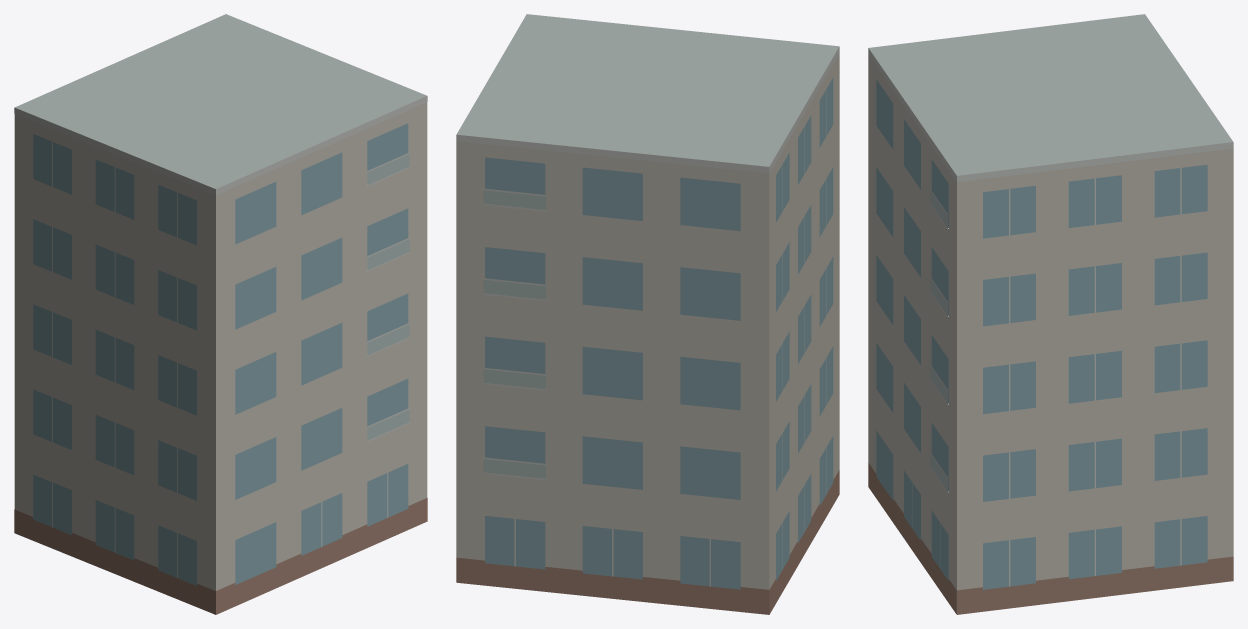
Rendered from survey-upis-32735681.glb.
The picture shows the model from 3 angles, left to right: view 1: azimuth 30°, elevation 25°; view 2: azimuth 150°, elevation 25°; view 3: azimuth 270°, elevation 25°; orthographic projection. The views are drawn at different scales.
Parts seen in each view (by area): view 1: survey-upis-32735681.tmp; view 2: survey-upis-32735681.tmp; view 3: survey-upis-32735681.tmp.
Boxes of the visible parts, bbox=[...] form: survey-upis-32735681.tmp: bbox=[14, 14, 427, 614]; survey-upis-32735681.tmp: bbox=[456, 14, 839, 614]; survey-upis-32735681.tmp: bbox=[868, 14, 1233, 614].
Bounding box in the file's own units: 13.38 × 16.9 × 12.75.
